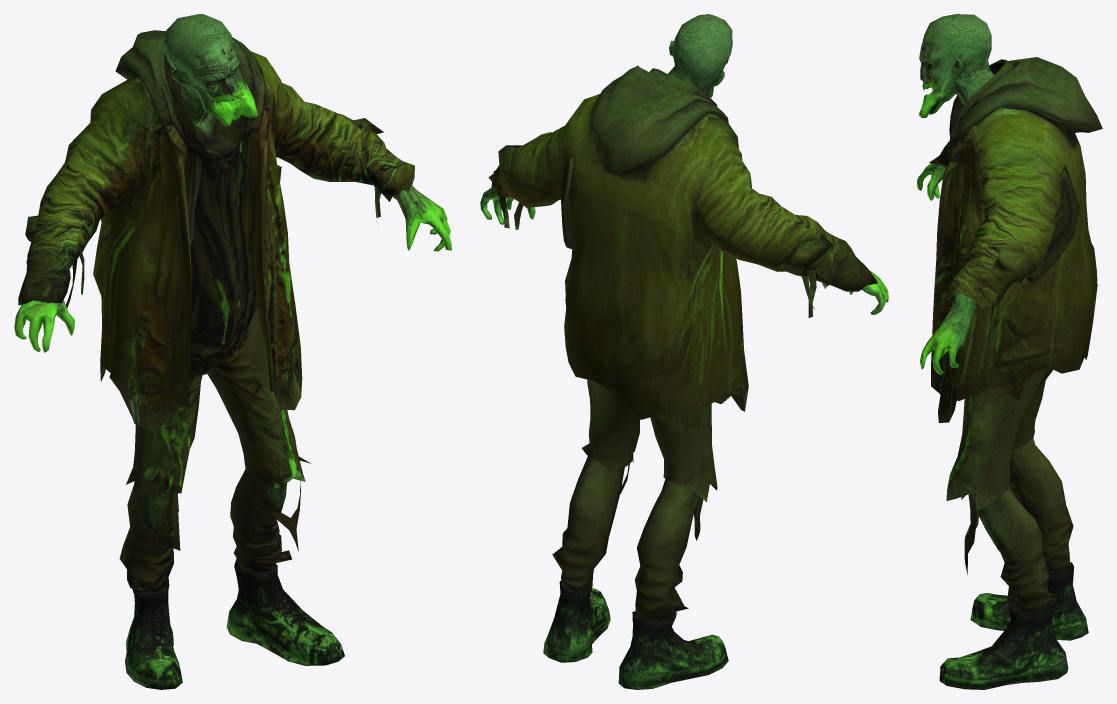
Rendered from zombie_toxic.glb.
The picture shows the model from 3 angles, left to right: view 1: azimuth 30°, elevation 25°; view 2: azimuth 150°, elevation 25°; view 3: azimuth 270°, elevation 25°; orthographic projection. The views are drawn at different scales.
Parts seen in each view (by area): view 1: mesh_node; view 2: mesh_node; view 3: mesh_node.
Part boxes in pixels (bbox=[...]): mesh_node: bbox=[14, 14, 451, 689]; mesh_node: bbox=[480, 14, 888, 689]; mesh_node: bbox=[917, 14, 1102, 689].
Bounding box in the file's own units: 0.6738 × 1 × 0.2754.
1 material, 1 textured.
